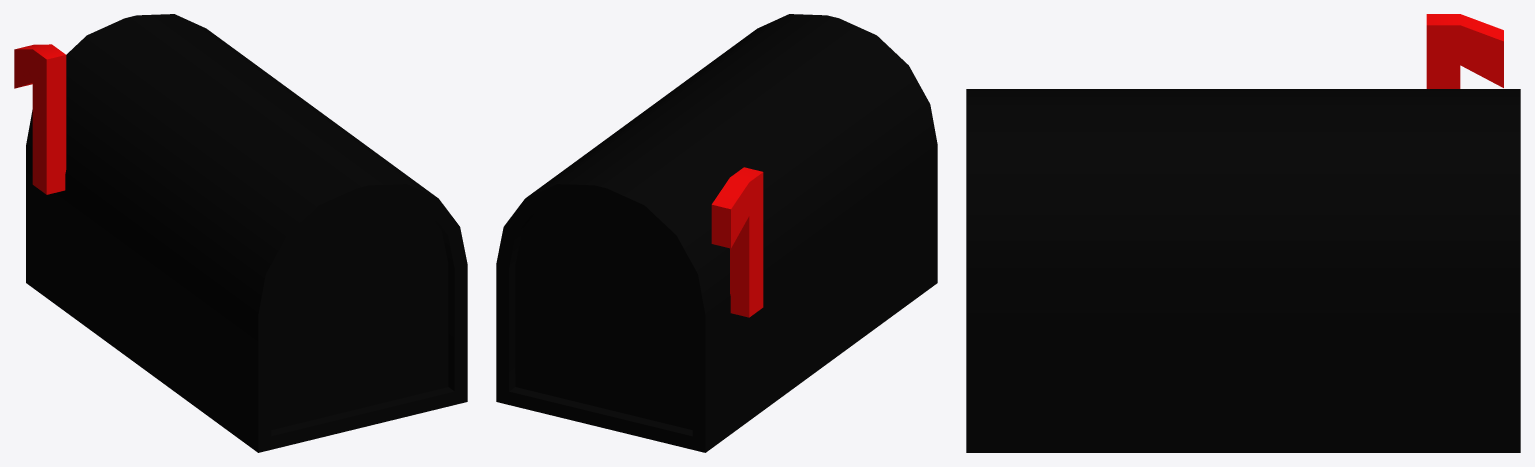
File: mailbox3.fbx
3 views of the same model, side by side, from view 1: azimuth 30°, elevation 25°; view 2: azimuth 150°, elevation 25°; view 3: azimuth 270°, elevation 25° (orthographic). The views are drawn at different scales.
Parts seen in each view (by area): view 1: mailbox3; view 2: mailbox3; view 3: mailbox3.
Boxes of the visible parts, left/top/right/bottom form: mailbox3: left=14, top=14, right=467, bottom=452; mailbox3: left=496, top=14, right=937, bottom=452; mailbox3: left=966, top=14, right=1520, bottom=452.
Bounding box in the file's own units: 18.86 × 20.3 × 33.29.
